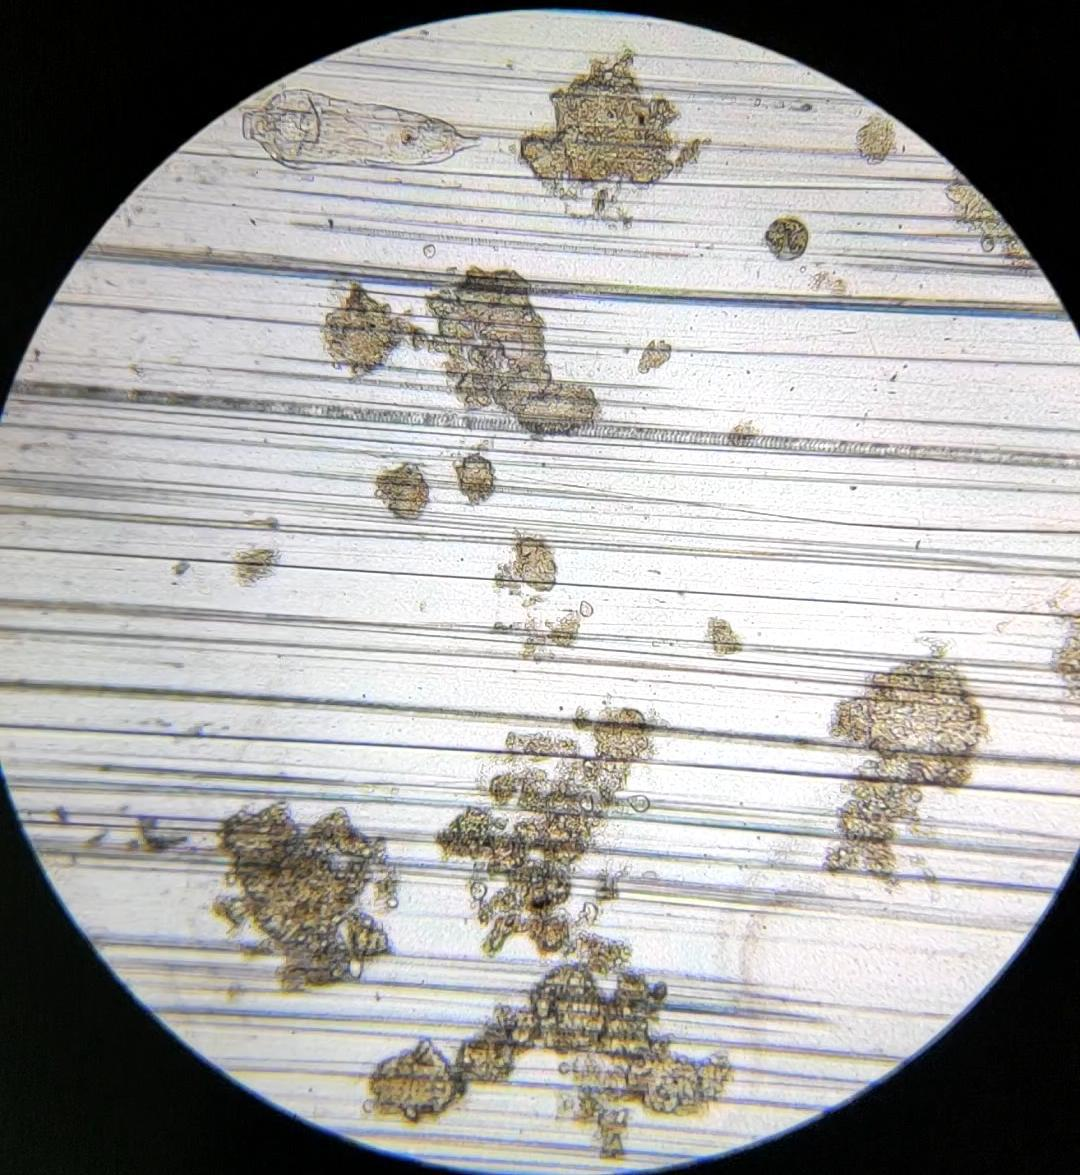Do: (243, 88, 483, 170)
